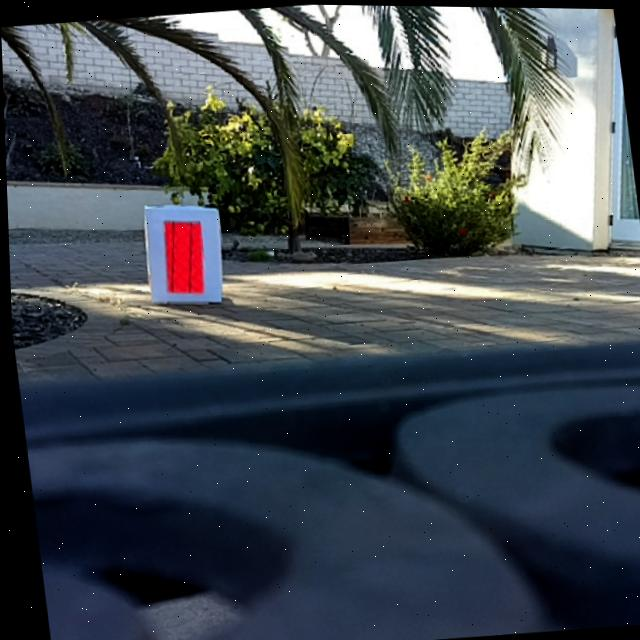led: (158, 217, 207, 294)
